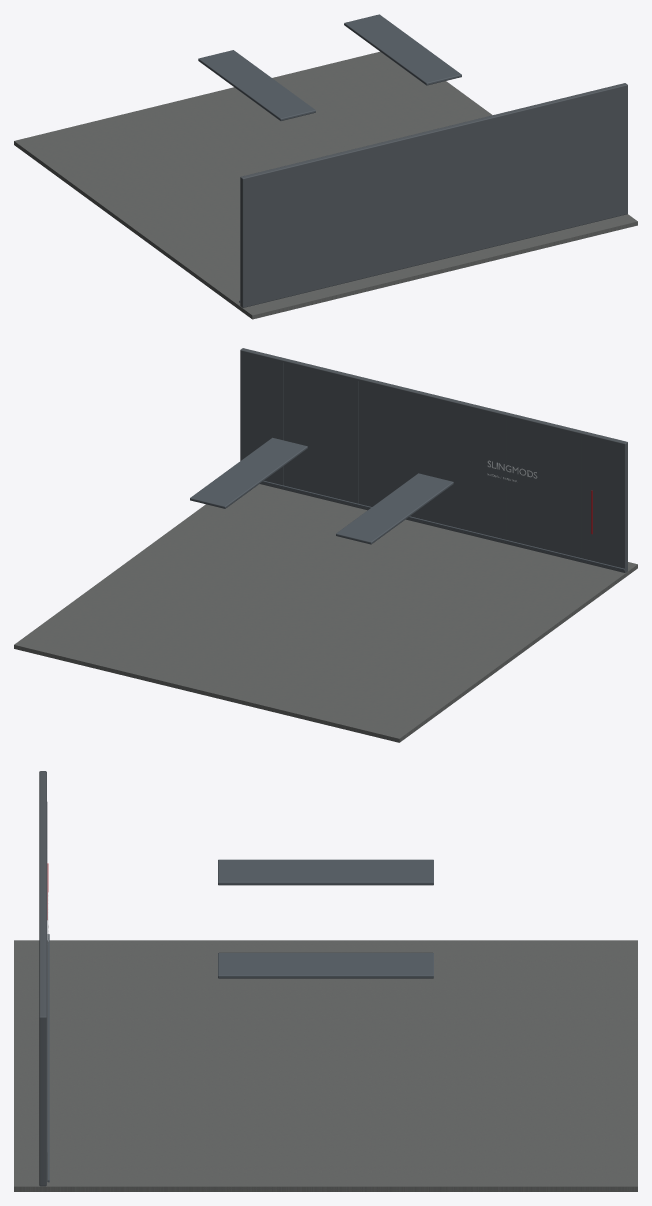
The model's file is inspection-bay-p03a1.glb.
3 renders of one model, top to bottom at view 1: azimuth 30°, elevation 25°; view 2: azimuth 150°, elevation 25°; view 3: azimuth 270°, elevation 25°, orthographic. The views are drawn at different scales.
Visible parts, largest first — view 1: rear_wall, inspection_floor, overhead_frame, overhead_frame.001; view 2: inspection_floor, rear_wall, overhead_frame, overhead_frame.001, wall_shadow_gap; view 3: inspection_floor, overhead_frame, overhead_frame.001, rear_wall, wall_shadow_gap.
Boxes of the visible parts, x1,y1,x2,y2 form: rear_wall: [240, 83, 627, 307]; inspection_floor: [14, 51, 637, 319]; overhead_frame: [198, 50, 315, 120]; overhead_frame.001: [344, 14, 461, 85]; inspection_floor: [14, 484, 637, 742]; rear_wall: [240, 348, 627, 572]; overhead_frame: [336, 473, 453, 544]; overhead_frame.001: [190, 437, 307, 508]; wall_shadow_gap: [262, 481, 624, 570]; inspection_floor: [14, 940, 637, 1191]; overhead_frame: [218, 859, 433, 885]; overhead_frame.001: [218, 952, 433, 978]; rear_wall: [39, 771, 46, 1186]; wall_shadow_gap: [47, 934, 49, 1182].
Bounding box in the file's own units: 14 × 4.64 × 15.
6 materials, 1 textured.
